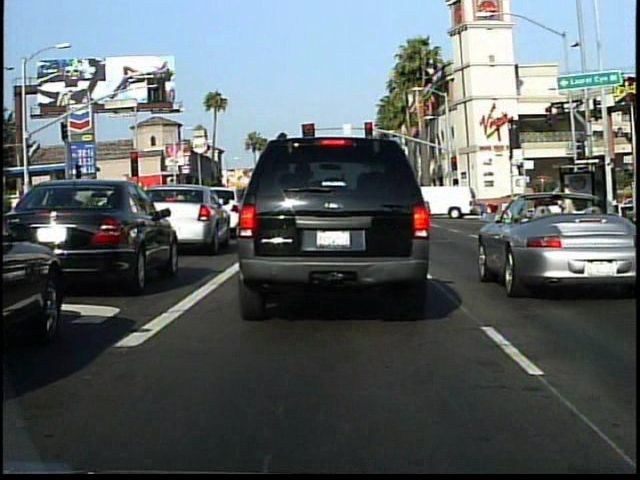person: (555, 179, 577, 232)
